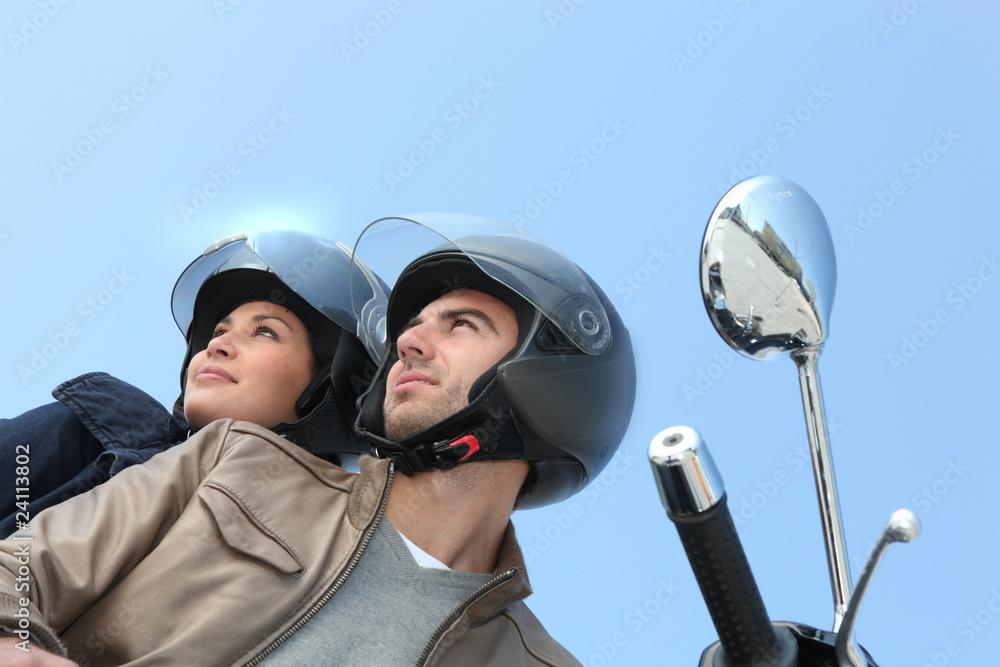helmet: (347, 213, 639, 513), (168, 226, 422, 493)
